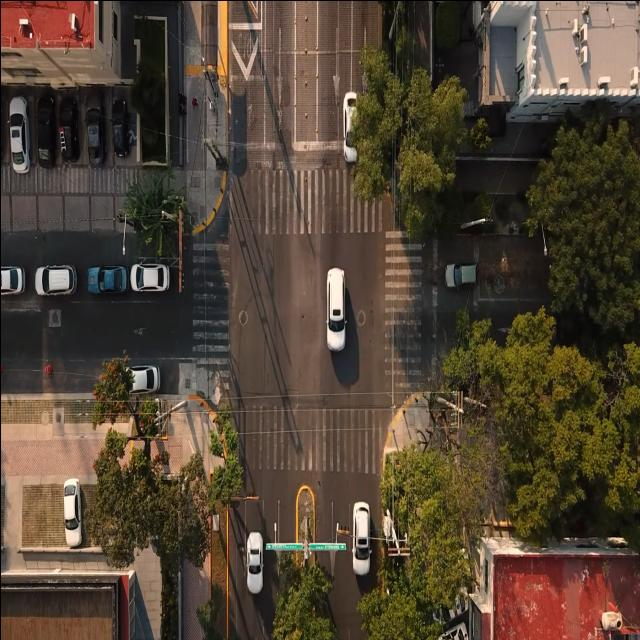cars: (326, 266, 346, 352), (8, 95, 30, 173), (83, 93, 107, 161), (34, 96, 56, 168), (352, 502, 372, 576), (58, 96, 80, 163), (62, 478, 82, 548), (34, 264, 76, 296), (86, 264, 128, 294), (130, 262, 170, 292), (245, 530, 263, 594), (110, 100, 130, 156), (125, 364, 159, 394), (444, 261, 476, 288), (0, 265, 25, 295)
